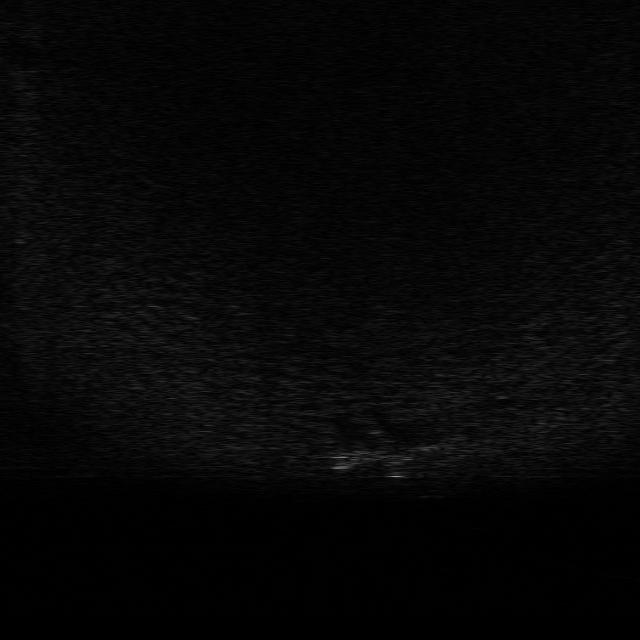plane: (332, 428, 446, 482)
